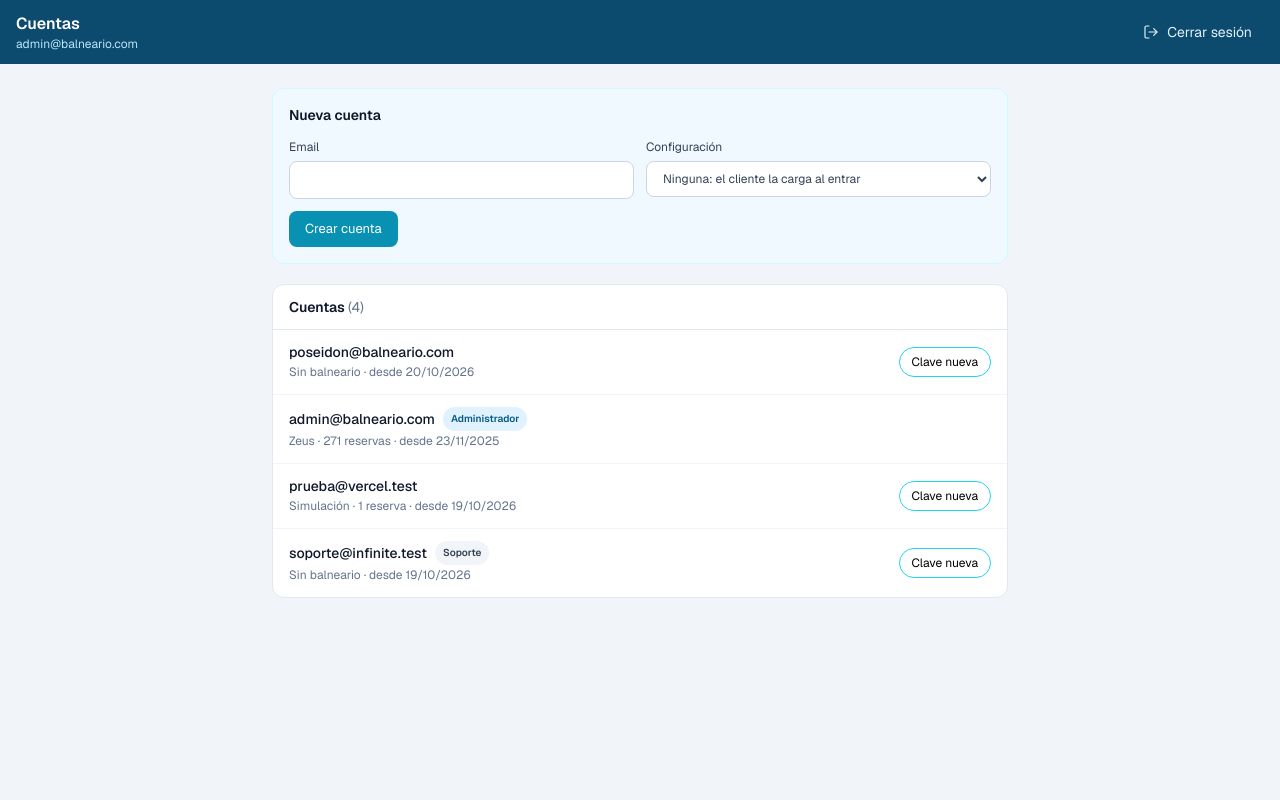
Test: panel de cuentas › genera una clave nueva despues de confirmar
Click the button with aria-label "Clave nueva para prueba@vercel.test" at (945, 496), box [898, 481, 991, 511]
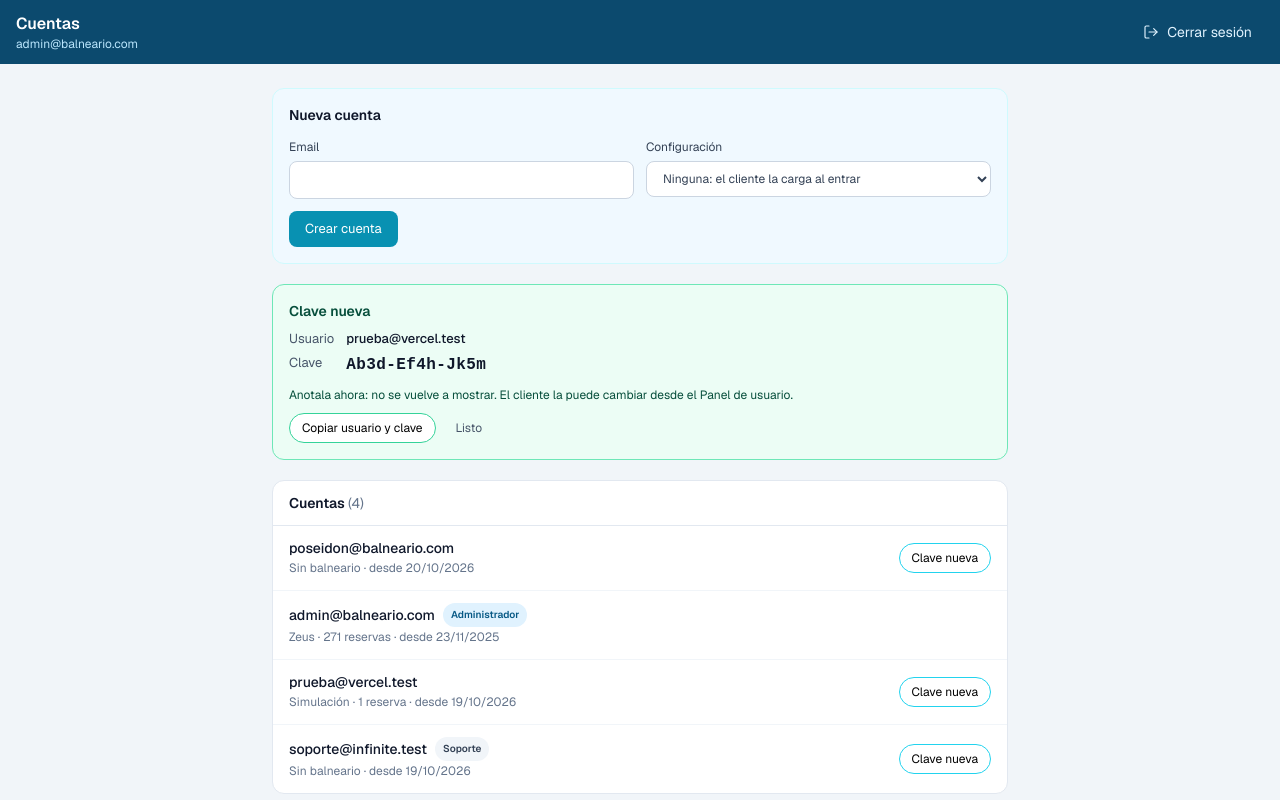
Result: the text "Clave nueva" is shown at [289, 302, 370, 320]
Result: the text "Ab3d-Ef4h-Jk5m" is shown at [346, 356, 486, 374]
